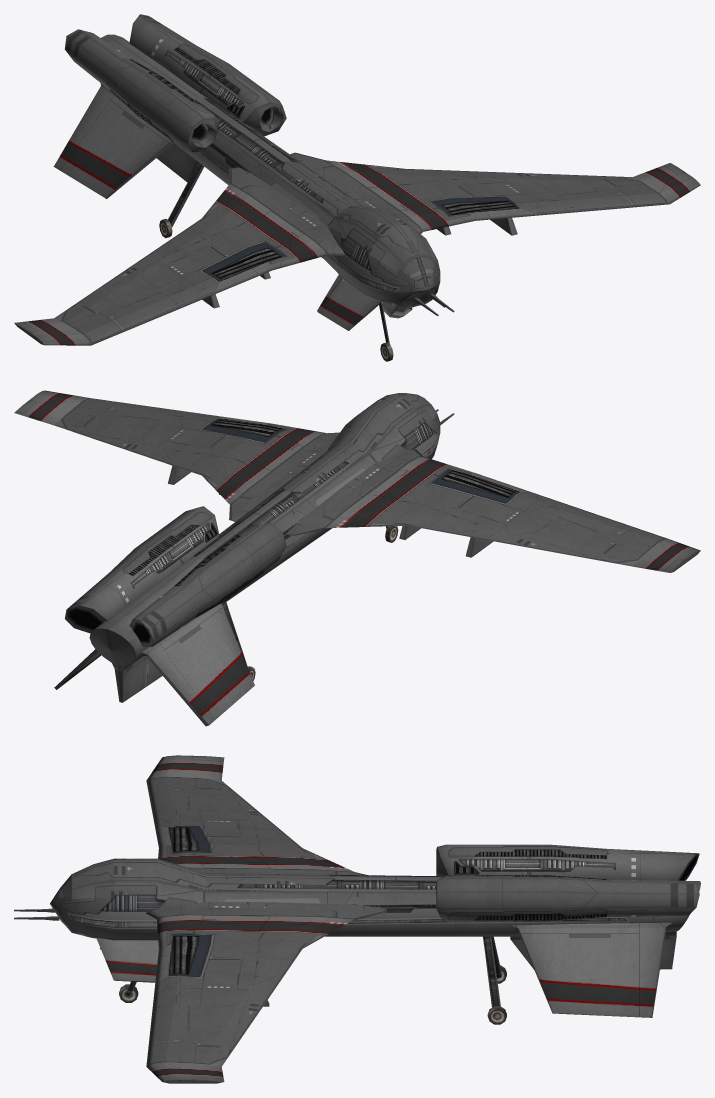
The model's file is unmannedDroneType02.FBX.
3 renders of one model, top to bottom at view 1: azimuth 30°, elevation 25°; view 2: azimuth 150°, elevation 25°; view 3: azimuth 270°, elevation 25°, orthographic.
Visible parts, largest first — view 1: unmannedDroneType02; view 2: unmannedDroneType02; view 3: unmannedDroneType02.
Part boxes in pixels (x1=…): unmannedDroneType02: x1=14, y1=14, x2=700, y2=361; unmannedDroneType02: x1=14, y1=390, x2=700, y2=726; unmannedDroneType02: x1=14, y1=755, x2=700, y2=1083.
Size of the model in its own units: 4.08 by 3.65 by 0.8323.
Materials: 1 (1 with a texture image).
